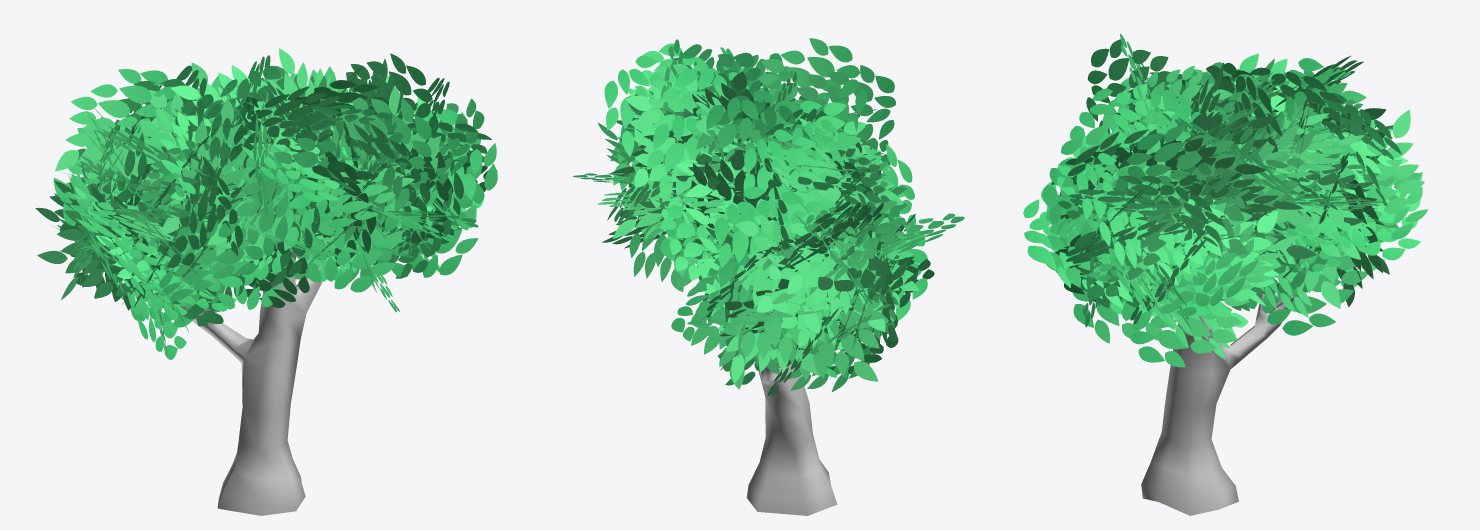
The model's file is arbol.hojas.fbx.
3 views of the same model, side by side, from view 1: azimuth 30°, elevation 25°; view 2: azimuth 150°, elevation 25°; view 3: azimuth 270°, elevation 25° (orthographic). The views are drawn at different scales.
Visible parts, largest first — view 1: ojas.300, 1; view 2: ojas.300, 1; view 3: ojas.300, 1.
Part boxes in pixels (box(x1,y1,x2,y2)): ojas.300: box(35, 48, 497, 359); 1: box(180, 219, 333, 515); ojas.300: box(573, 38, 964, 396); 1: box(746, 357, 837, 515); ojas.300: box(1023, 33, 1428, 367); 1: box(1141, 292, 1295, 515).
Bounding box in the file's own units: 595 × 608 × 520.
